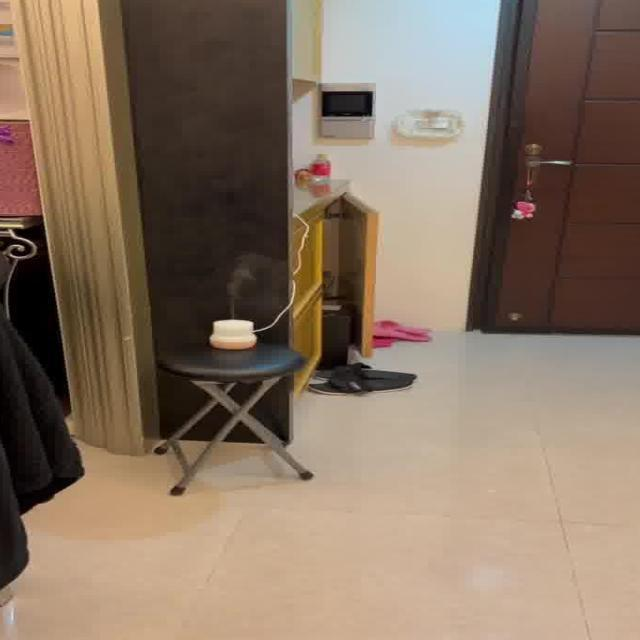fire: (217, 252, 270, 314)
